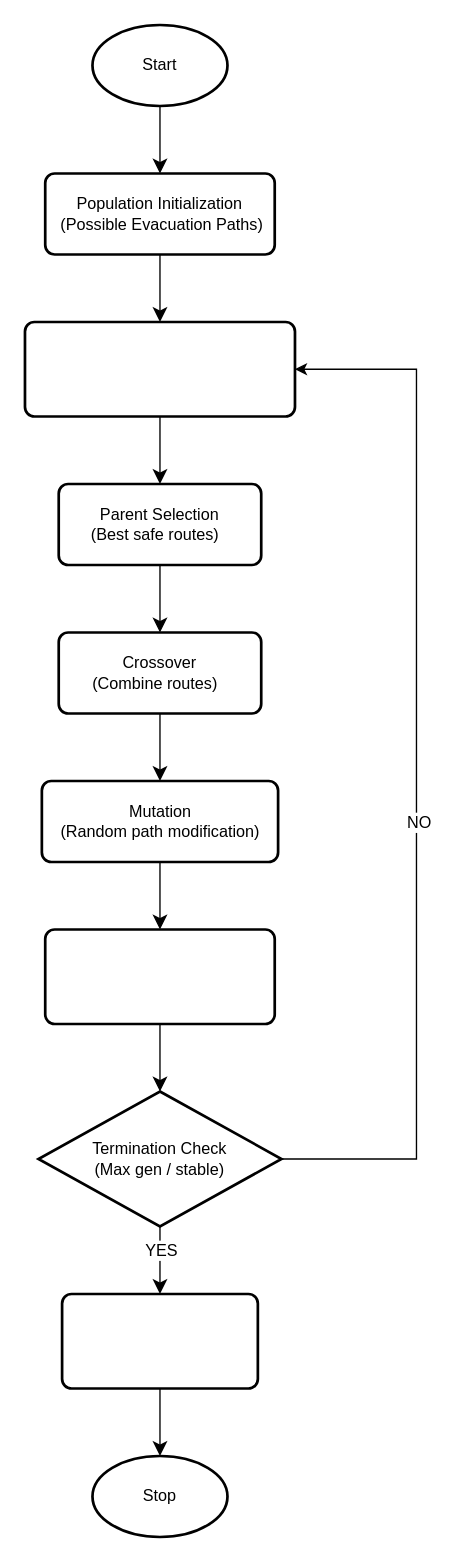
The diagram is 454 pixels wide and 1561 high, and some of its shapes have lost their labels. Here are the shapes that lost their labels. From the top down, the centre of each, then its label:
At pixel 159 368: "Fitness Evaluation Fitness = 1 / (distance + flood risk)".
At pixel 159 976: "New Generation Formation + Elitism (best routes kept)".
At pixel 159 1340: "Output Best Route (Safest Evacuation)".
